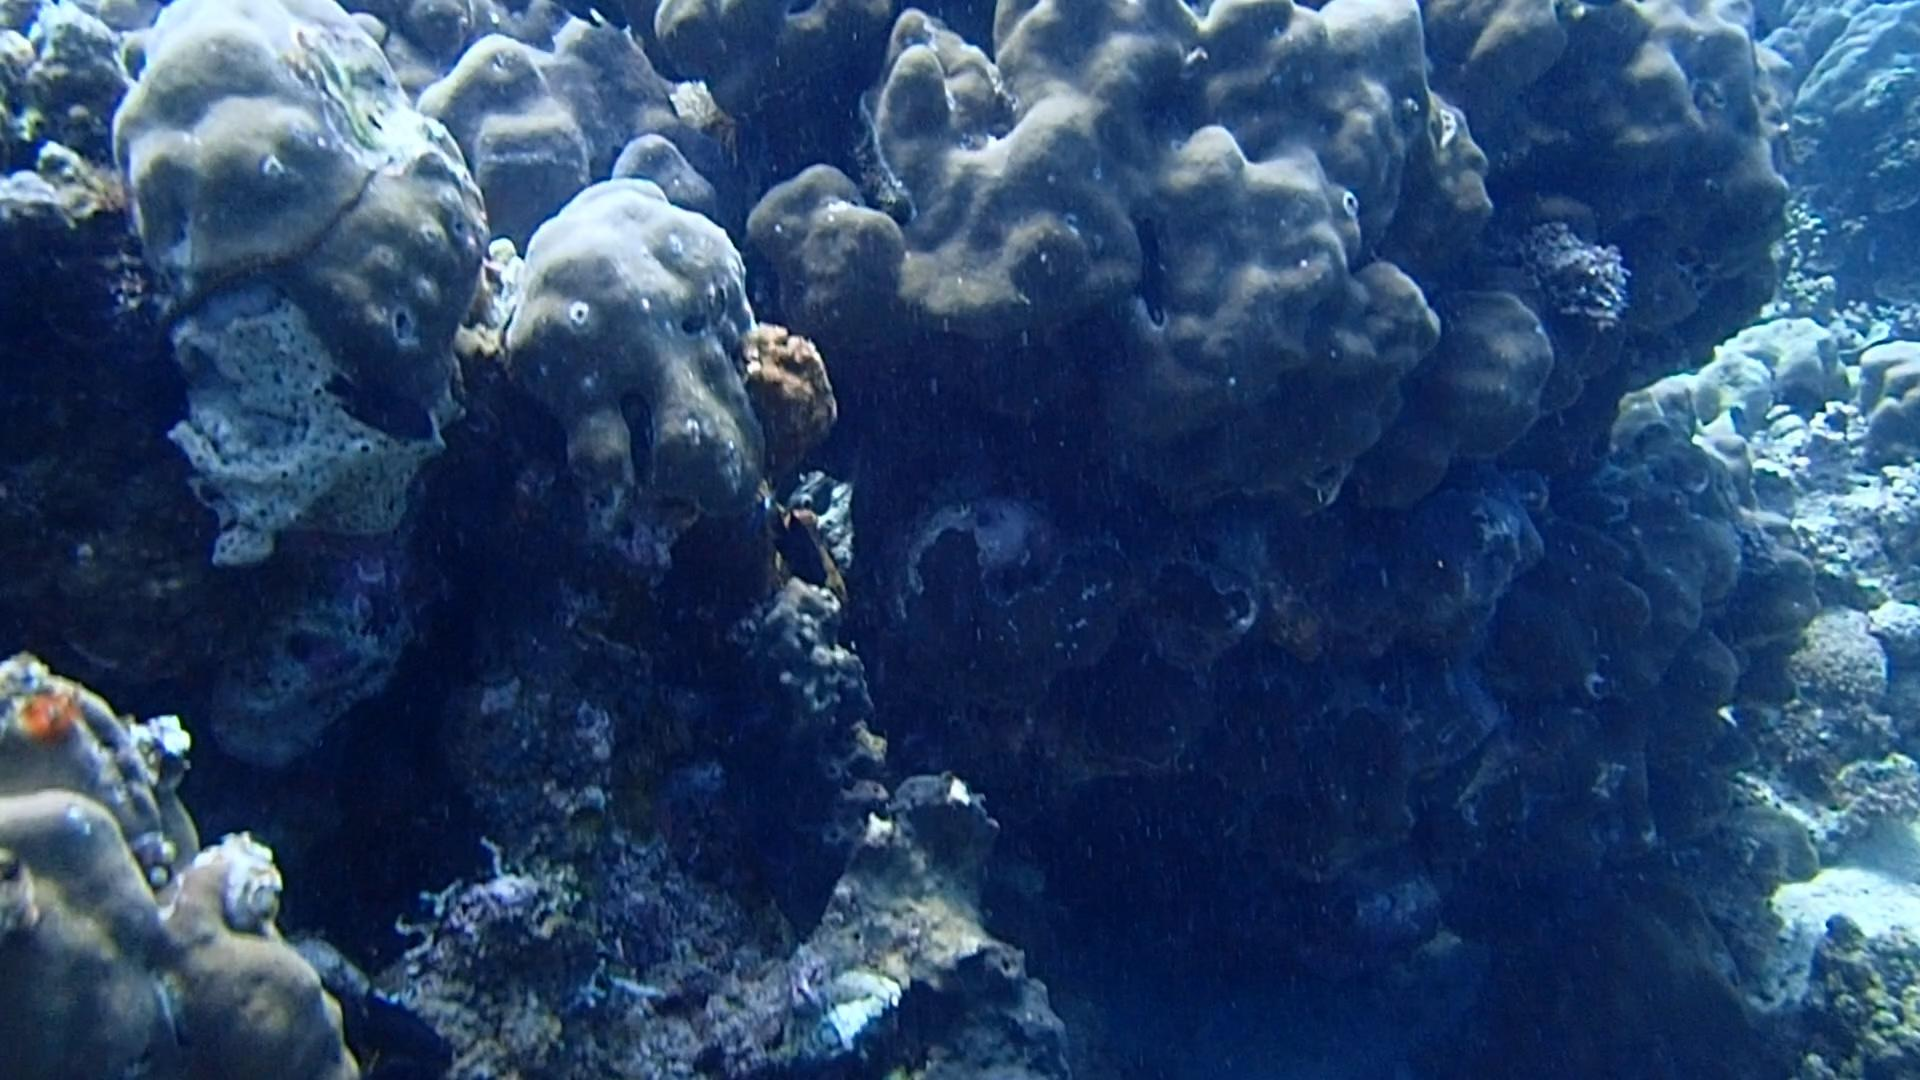Dark Fish: (323, 978, 450, 1069), (765, 505, 829, 596)
